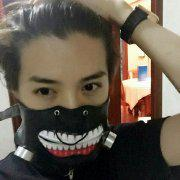OK: (18, 59, 116, 157)
